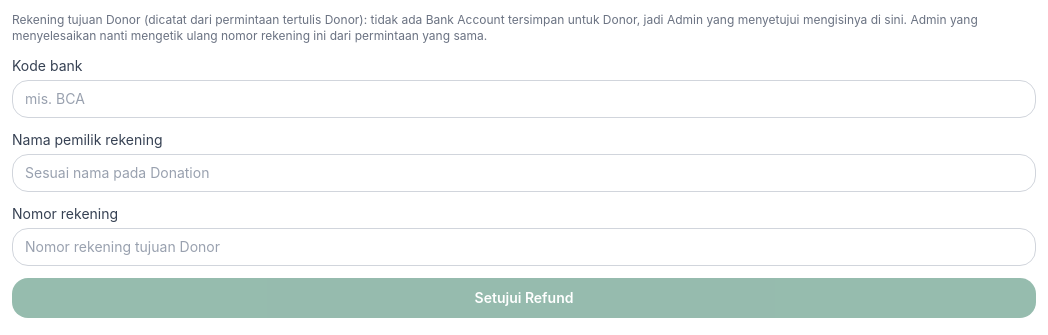
Test: AdminRefundApproveForm › disables the button until the destination is filled in
The image size is (1048, 335).
Expected: the button "Setujui Refund" is disabled, left=12, top=278, right=1036, bottom=318
Type "BCA" into the field labelled "Kode bank" at (524, 99), box left=12, top=80, right=1036, bottom=118
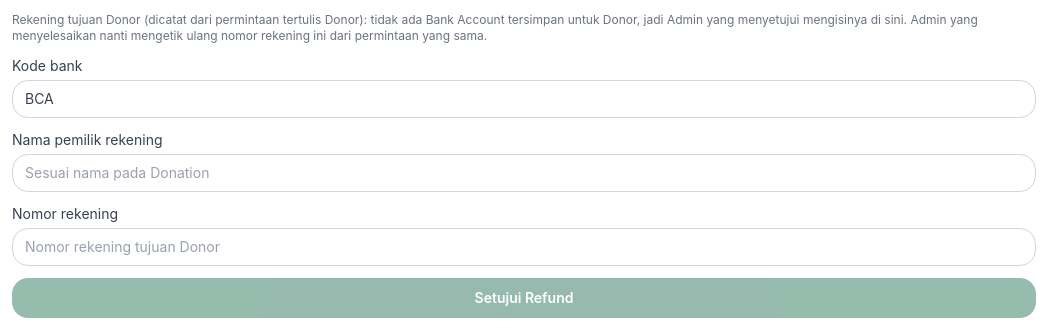
Type "Budi Santoso" into the field labelled "Nama pemilik rekening" at (524, 173), box left=12, top=154, right=1036, bottom=192
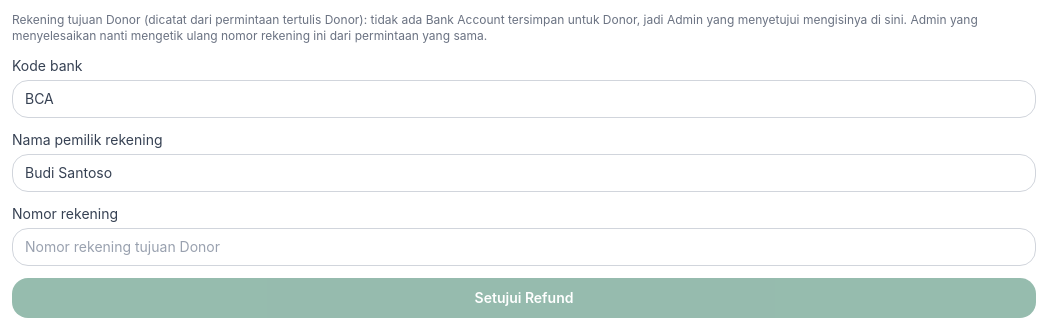
Type "1234567890" into the field labelled "Nomor rekening" at (524, 247), box left=12, top=228, right=1036, bottom=266
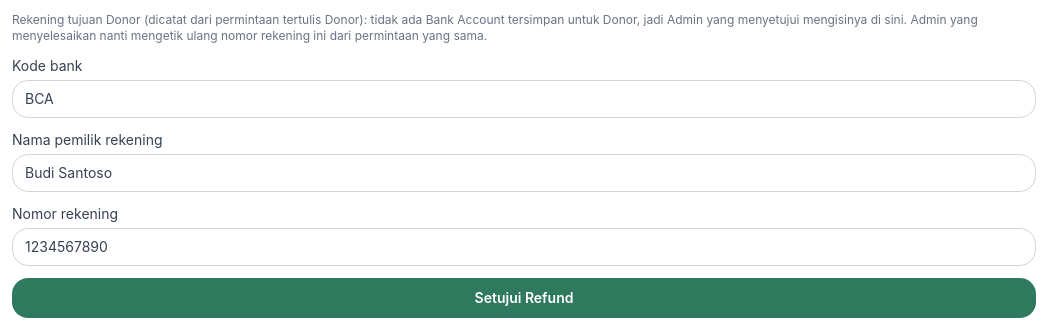
Now the button "Setujui Refund" is enabled, box left=12, top=278, right=1036, bottom=318
